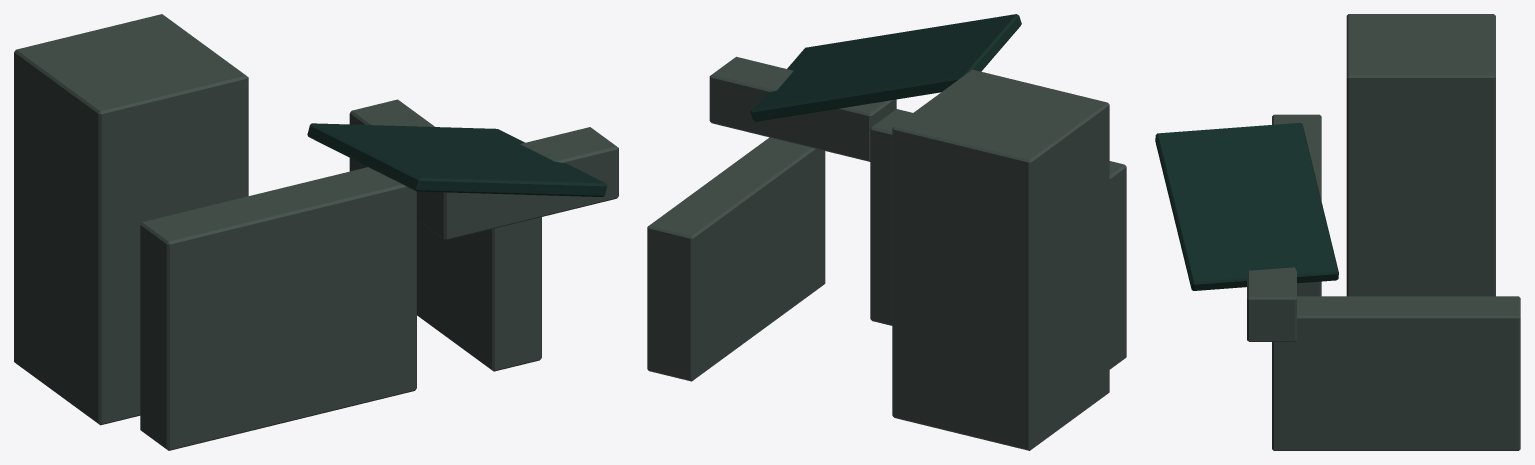
The model's file is LumenRuinedHallV2.glb.
3 views of the same model, side by side, from view 1: azimuth 30°, elevation 25°; view 2: azimuth 150°, elevation 25°; view 3: azimuth 270°, elevation 25° (orthographic). The views are drawn at different scales.
Visible parts, largest first — view 1: LumenRuinedHallV2; view 2: LumenRuinedHallV2; view 3: LumenRuinedHallV2.
Part boxes in pixels (bbox=[...]): LumenRuinedHallV2: bbox=[14, 14, 618, 450]; LumenRuinedHallV2: bbox=[647, 14, 1126, 450]; LumenRuinedHallV2: bbox=[1155, 14, 1520, 450].
Size of the model in its own units: 18.5 by 12 by 14.69.
1 material, 1 textured.
